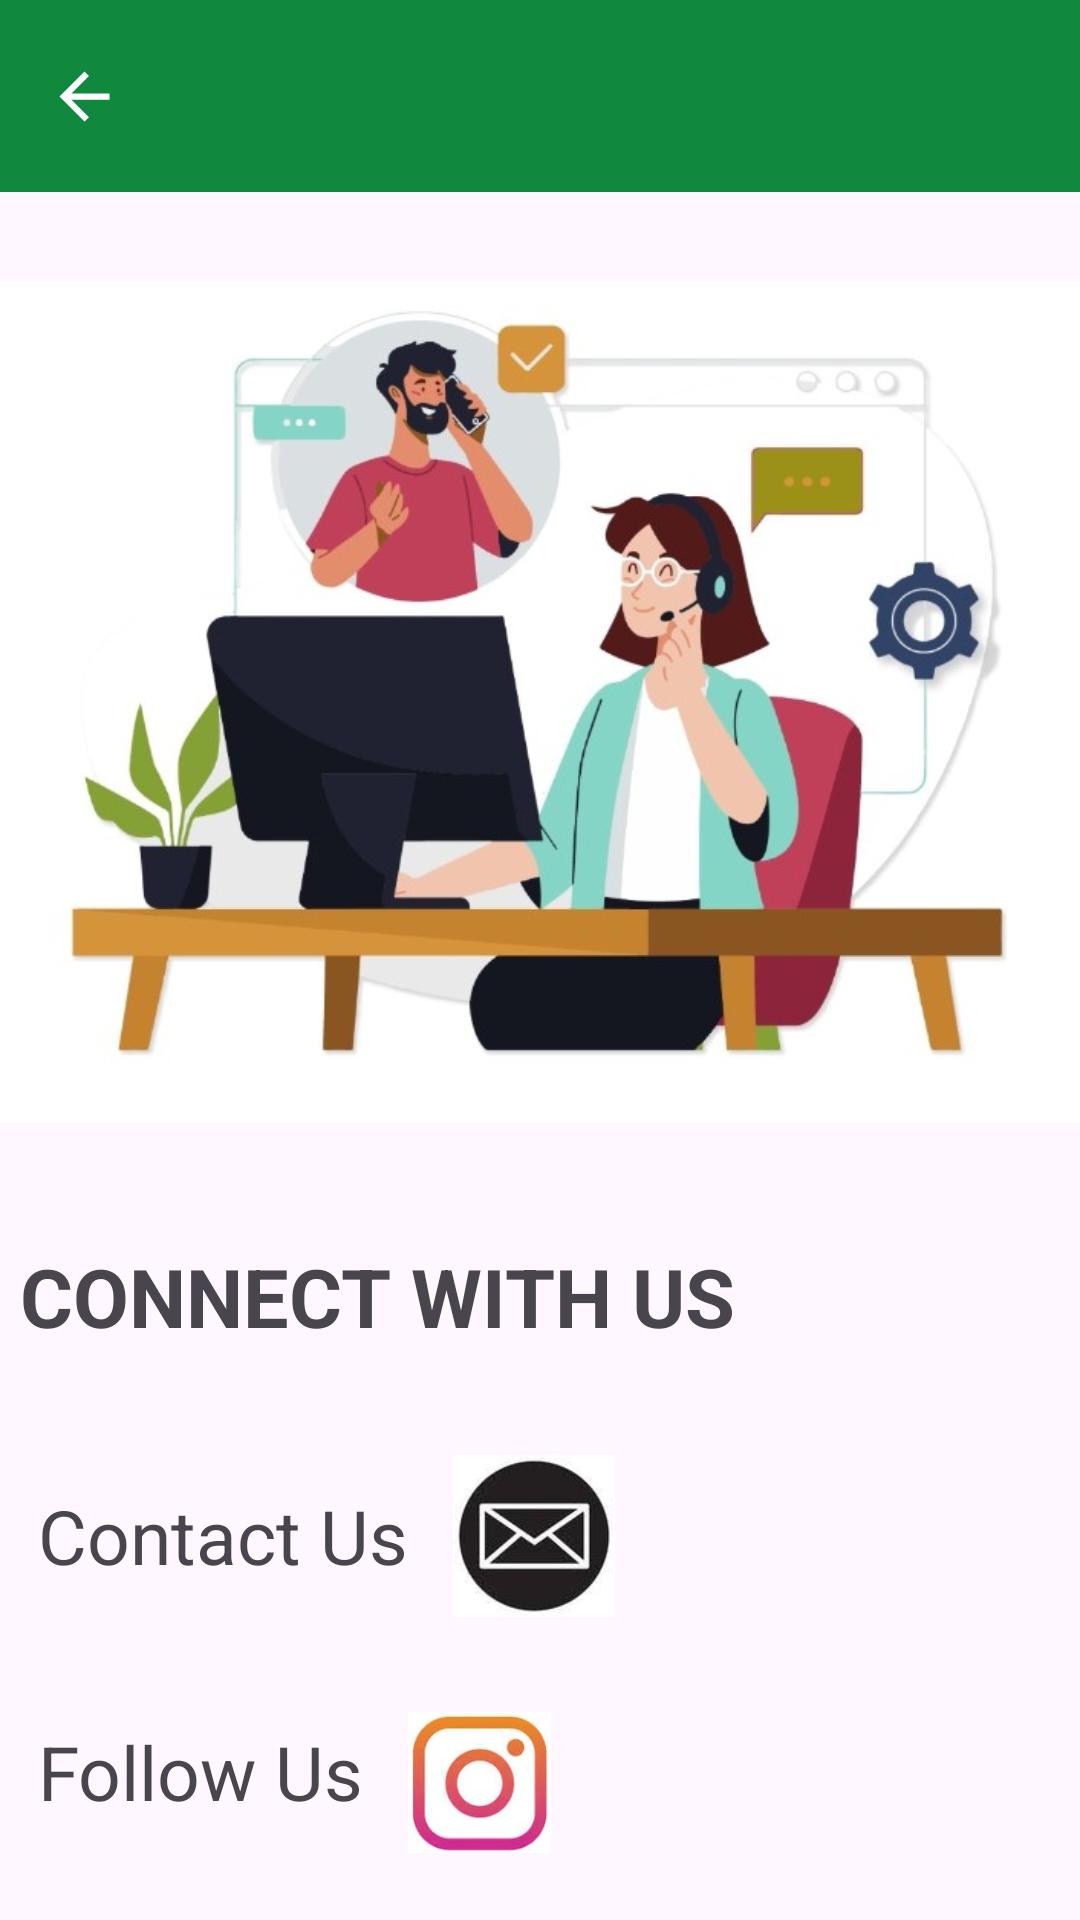

Where to tap for icons on this 1080x1920 app screen, as [x,y]:
emaill: [534,1536]
